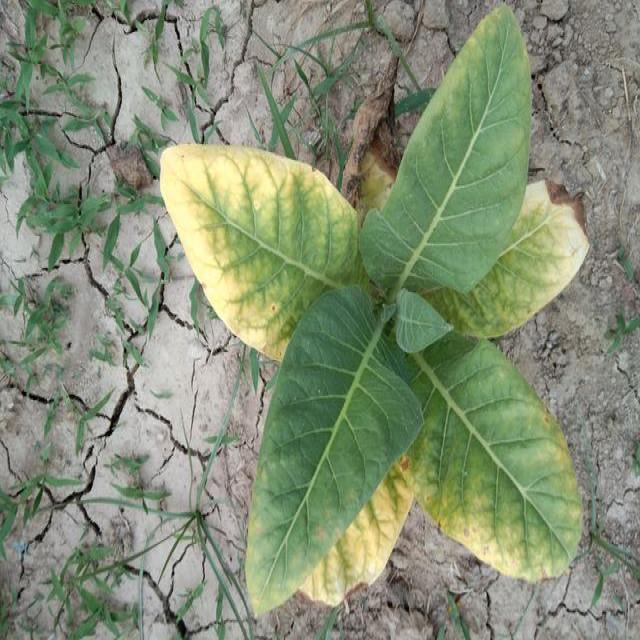crop: (165, 4, 590, 612)
